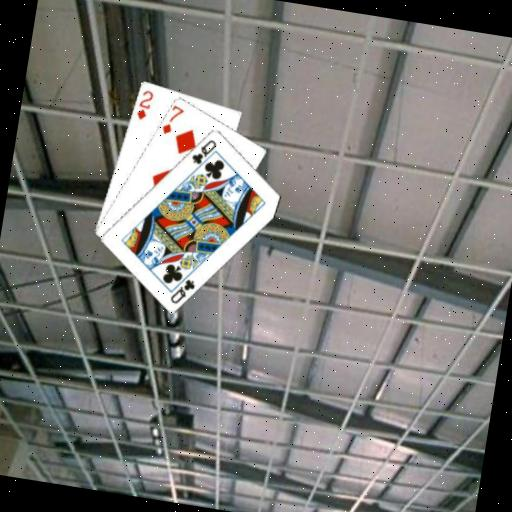2D: (133, 86, 155, 122)
7D: (157, 100, 186, 137)
QC: (187, 133, 219, 168), (166, 273, 197, 307)
